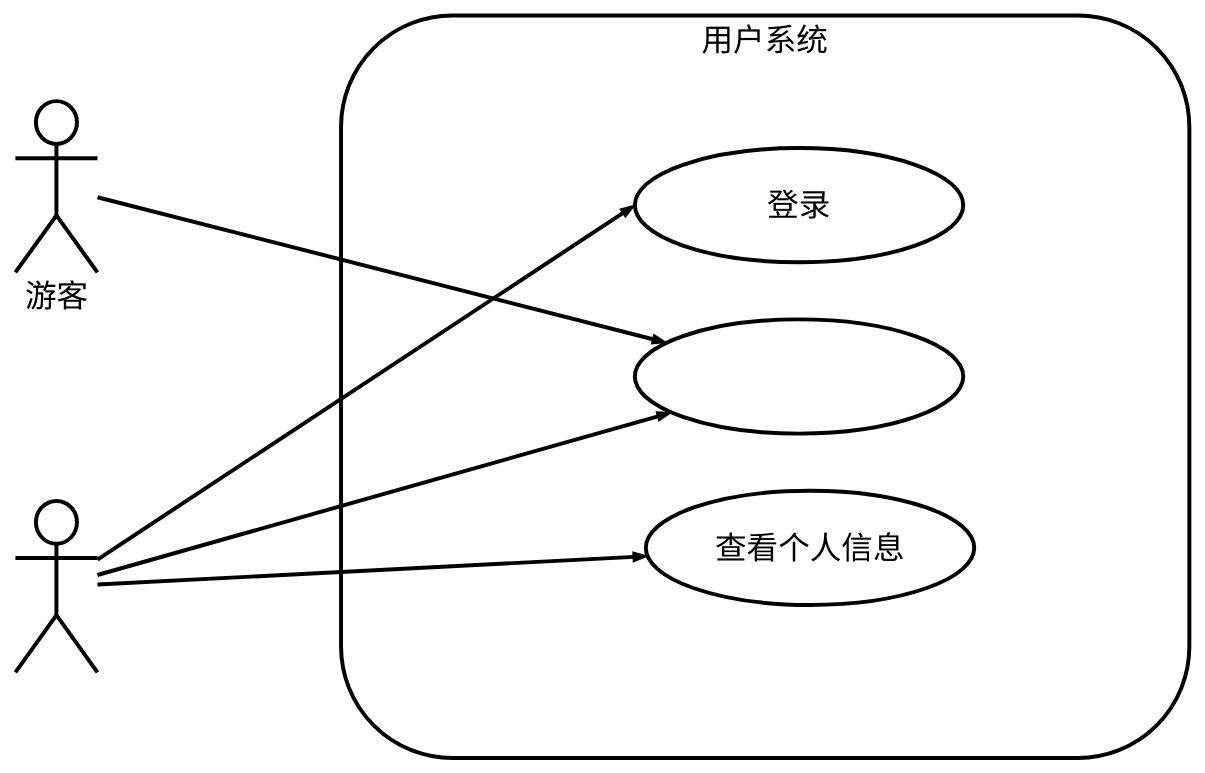
The diagram is 1205 pixels wide and 773 high, and some of its shapes have lost their labels. The centre of each missing label's shape, as x and y in pixels:
"注册" belongs at [798,376].
"用户" belongs at [56,586].
